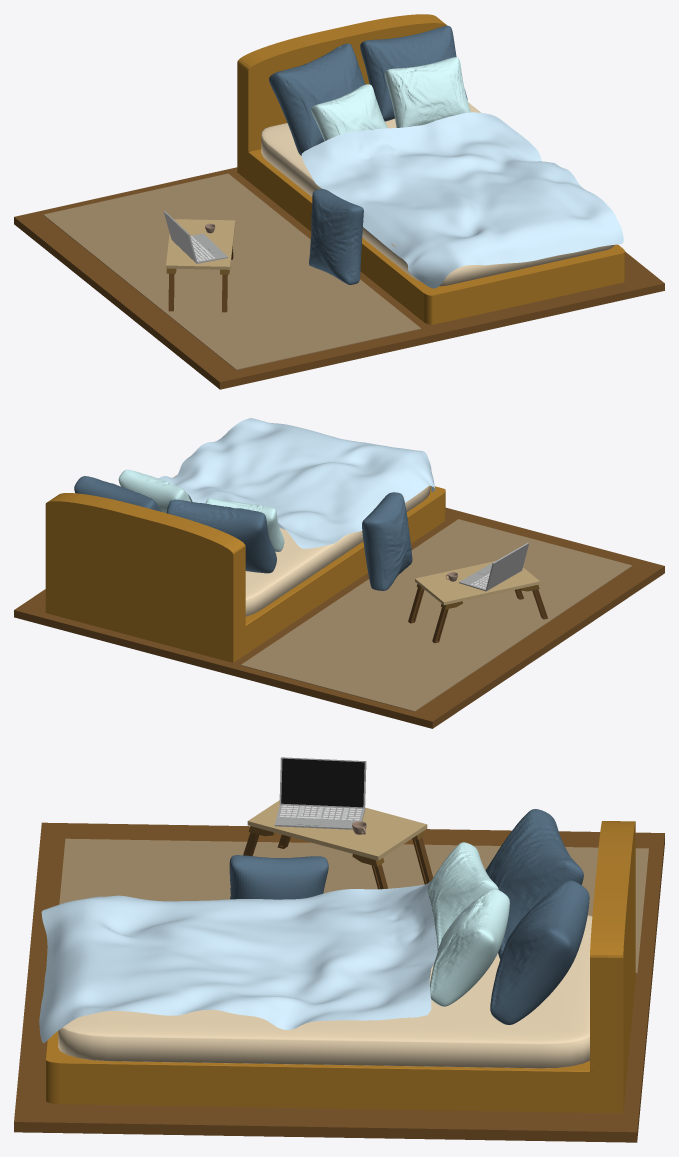
Rendered from sec1.glb.
3 views of the same model, one above another, from view 1: azimuth 30°, elevation 25°; view 2: azimuth 150°, elevation 25°; view 3: azimuth 270°, elevation 25° (orthographic). The views are drawn at different scales.
Visible parts, largest first — view 1: Plane.001, carpet, bed, floor1, p3, p2, futon, p5, p4, table, p1, Cube.007; view 2: bed, carpet, Plane.001, floor1, futon, p5, p3, table, p2, Cube.007, p4, p1; view 3: Plane.001, bed, floor1, futon, carpet, p4, p3, Cube.007, table, p2, p5, p1.
Part boxes in pixels (x1=…): Plane.001: x1=301, y1=112, x2=623, y2=288; carpet: x1=43, y1=173, x2=421, y2=369; bed: x1=237, y1=14, x2=624, y2=324; floor1: x1=14, y1=167, x2=664, y2=389; p3: x1=269, y1=43, x2=365, y2=155; p2: x1=384, y1=57, x2=470, y2=127; futon: x1=261, y1=102, x2=614, y2=286; p5: x1=309, y1=189, x2=363, y2=284; p4: x1=360, y1=25, x2=467, y2=121; table: x1=166, y1=219, x2=235, y2=312; p1: x1=311, y1=84, x2=387, y2=141; Cube.007: x1=163, y1=211, x2=227, y2=263; bed: x1=45, y1=486, x2=445, y2=662; carpet: x1=241, y1=519, x2=632, y2=711; Plane.001: x1=158, y1=418, x2=435, y2=548; floor1: x1=14, y1=507, x2=664, y2=728; futon: x1=173, y1=475, x2=430, y2=616; p5: x1=362, y1=492, x2=412, y2=590; p3: x1=167, y1=499, x2=276, y2=573; table: x1=408, y1=561, x2=547, y2=643; p2: x1=118, y1=469, x2=192, y2=513; Cube.007: x1=459, y1=542, x2=528, y2=591; p4: x1=74, y1=476, x2=161, y2=511; p1: x1=205, y1=498, x2=284, y2=551; Plane.001: x1=39, y1=881, x2=437, y2=1043; bed: x1=46, y1=821, x2=635, y2=1113; floor1: x1=14, y1=822, x2=664, y2=1142; futon: x1=58, y1=915, x2=592, y2=1068; carpet: x1=59, y1=838, x2=648, y2=973; p4: x1=490, y1=880, x2=589, y2=1024; p3: x1=485, y1=809, x2=583, y2=959; Cube.007: x1=274, y1=757, x2=366, y2=829; table: x1=243, y1=800, x2=433, y2=889; p2: x1=430, y1=889, x2=509, y2=1006; p5: x1=229, y1=855, x2=328, y2=899; p1: x1=427, y1=842, x2=498, y2=950.
Size of the model in its own units: 5.4 by 1.53 by 4.8.
